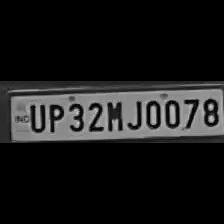0: (141, 96, 161, 130), (162, 96, 182, 128)
2: (84, 98, 104, 132)
3: (64, 98, 84, 132)
7: (180, 95, 198, 129)
8: (198, 94, 220, 128)
J: (125, 96, 143, 130)
M: (104, 97, 124, 132)
P: (44, 100, 64, 134)
U: (27, 102, 46, 132)
